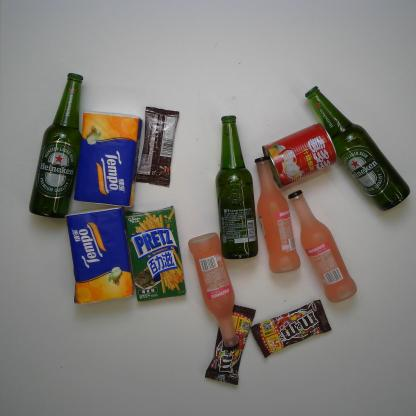Alcohol: (304, 85, 411, 212), (28, 72, 84, 219), (288, 189, 357, 303), (215, 115, 259, 260), (187, 232, 240, 350), (254, 156, 301, 274)
Canned Food: (261, 122, 338, 189)
Chocolate: (250, 299, 332, 359), (204, 304, 256, 386), (135, 106, 179, 187)
Dessert: (124, 205, 187, 302)
Tissue: (64, 206, 135, 305), (73, 110, 143, 207)
